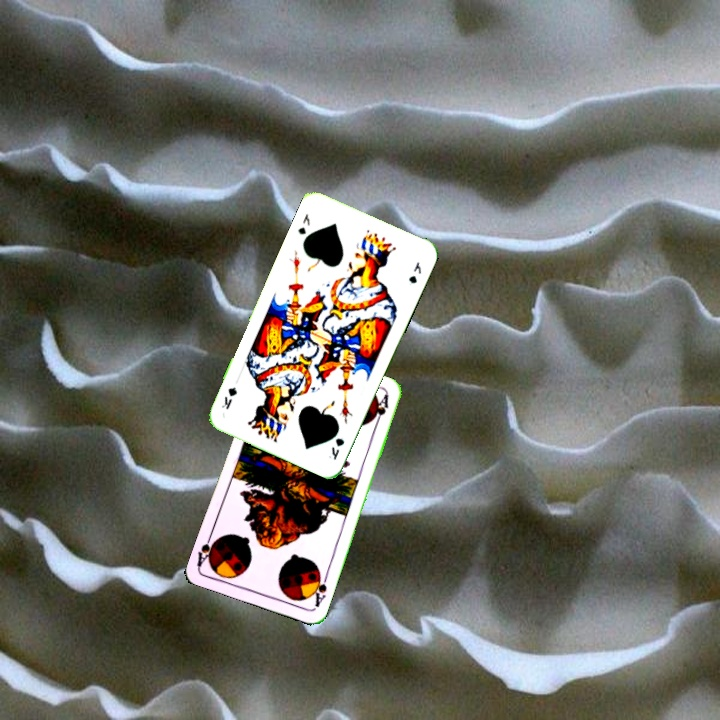GK: (324, 434, 347, 463), (294, 209, 313, 237)
SA: (307, 568, 331, 610)
